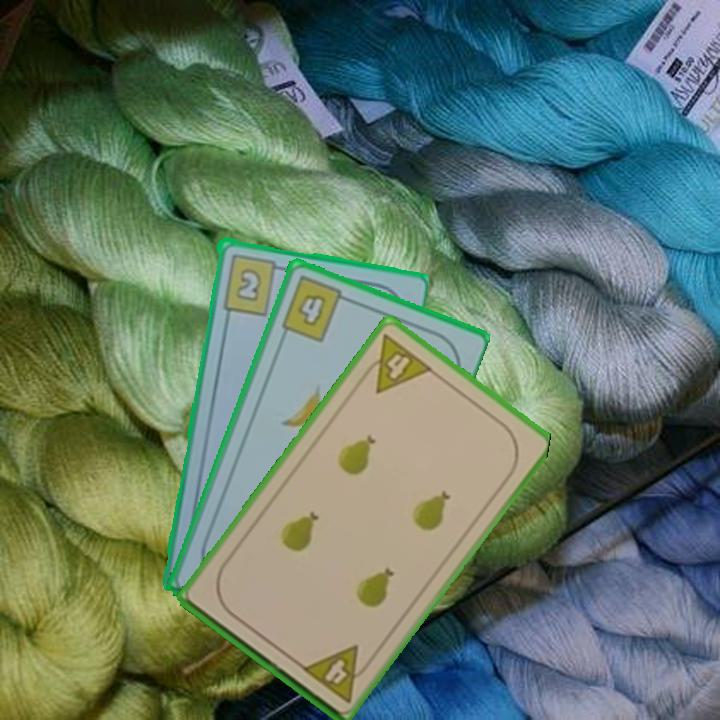2b: (218, 250, 288, 318)
4b: (277, 272, 353, 345)
4p: (355, 329, 436, 396), (298, 641, 376, 706)
